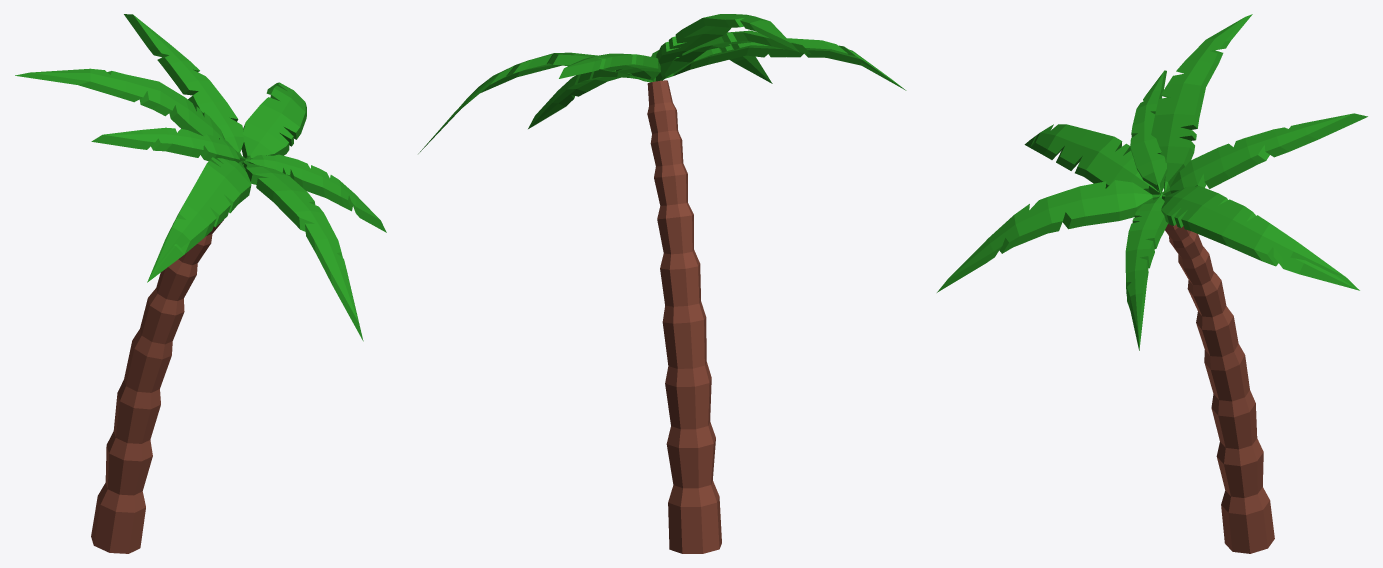
File: Coqueiro.fbx
3 views of the same model, side by side, from view 1: azimuth 30°, elevation 25°; view 2: azimuth 150°, elevation 25°; view 3: azimuth 270°, elevation 25° (orthographic). The views are drawn at different scales.
Parts seen in each view (by area): view 1: Cylinder.009; view 2: Cylinder.009; view 3: Cylinder.009.
Part boxes in pixels (x1,y1,x2,y2): Cylinder.009: (15, 14, 386, 553); Cylinder.009: (418, 14, 906, 553); Cylinder.009: (937, 14, 1367, 553).
Bounding box in the file's own units: 3556 × 5357 × 4322.
